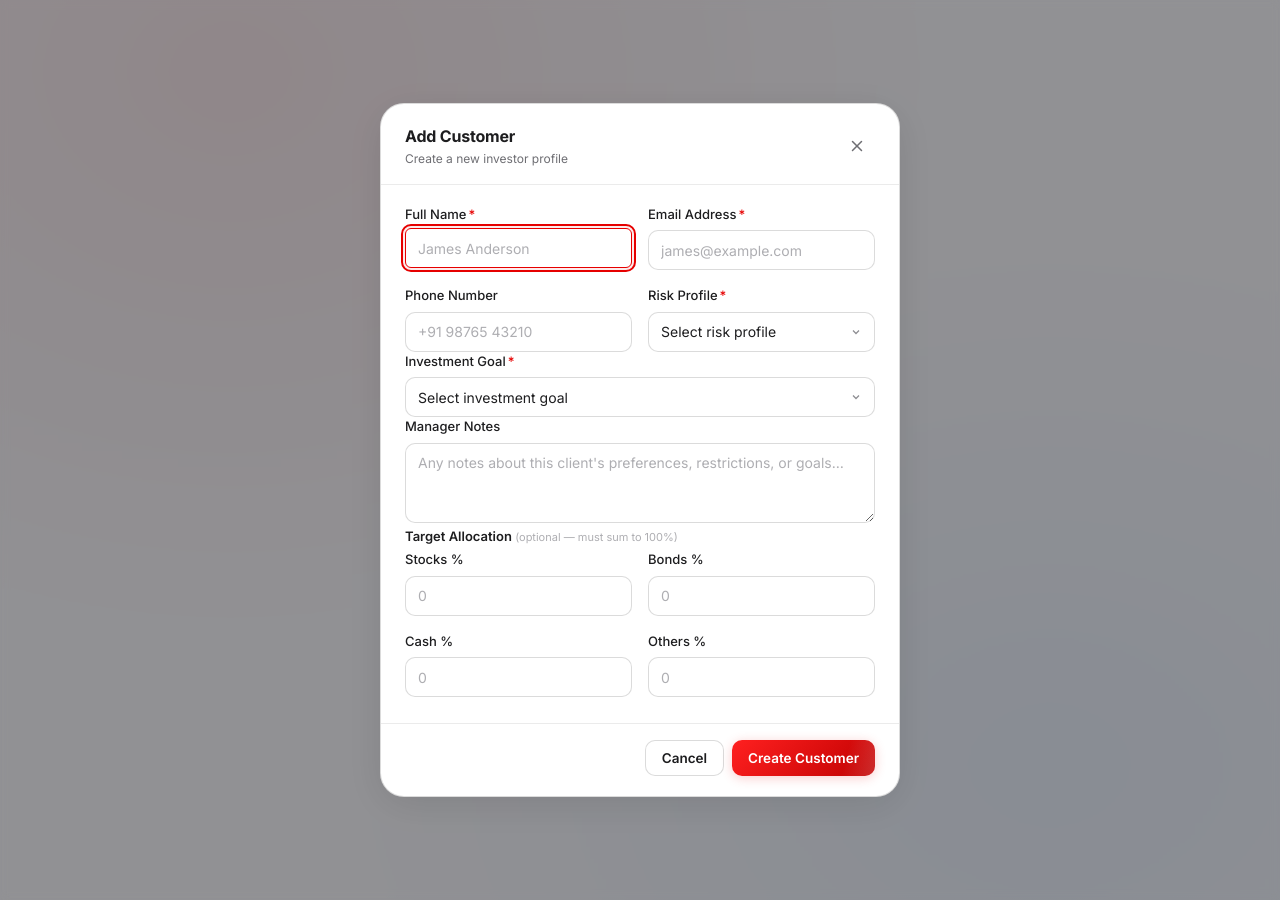
CustomerForm — validation › shows invalid email error for bad email format
In the field with placeholder "james@example.com": (762, 250) x1=648 y1=230 x2=875 y2=270, type "notanemail"
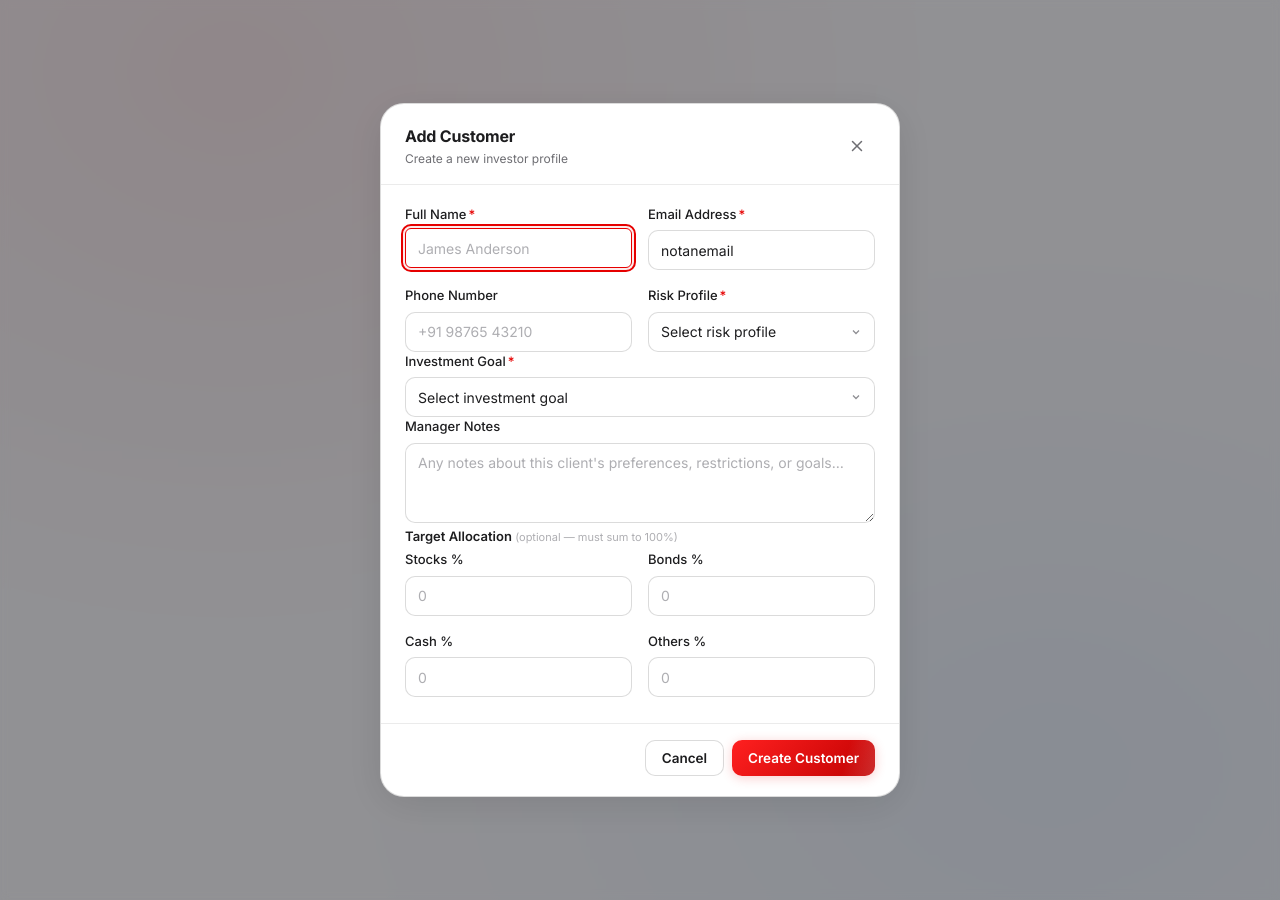
Leave the field with placeholder "james@example.com", box x1=648 y1=230 x2=875 y2=270
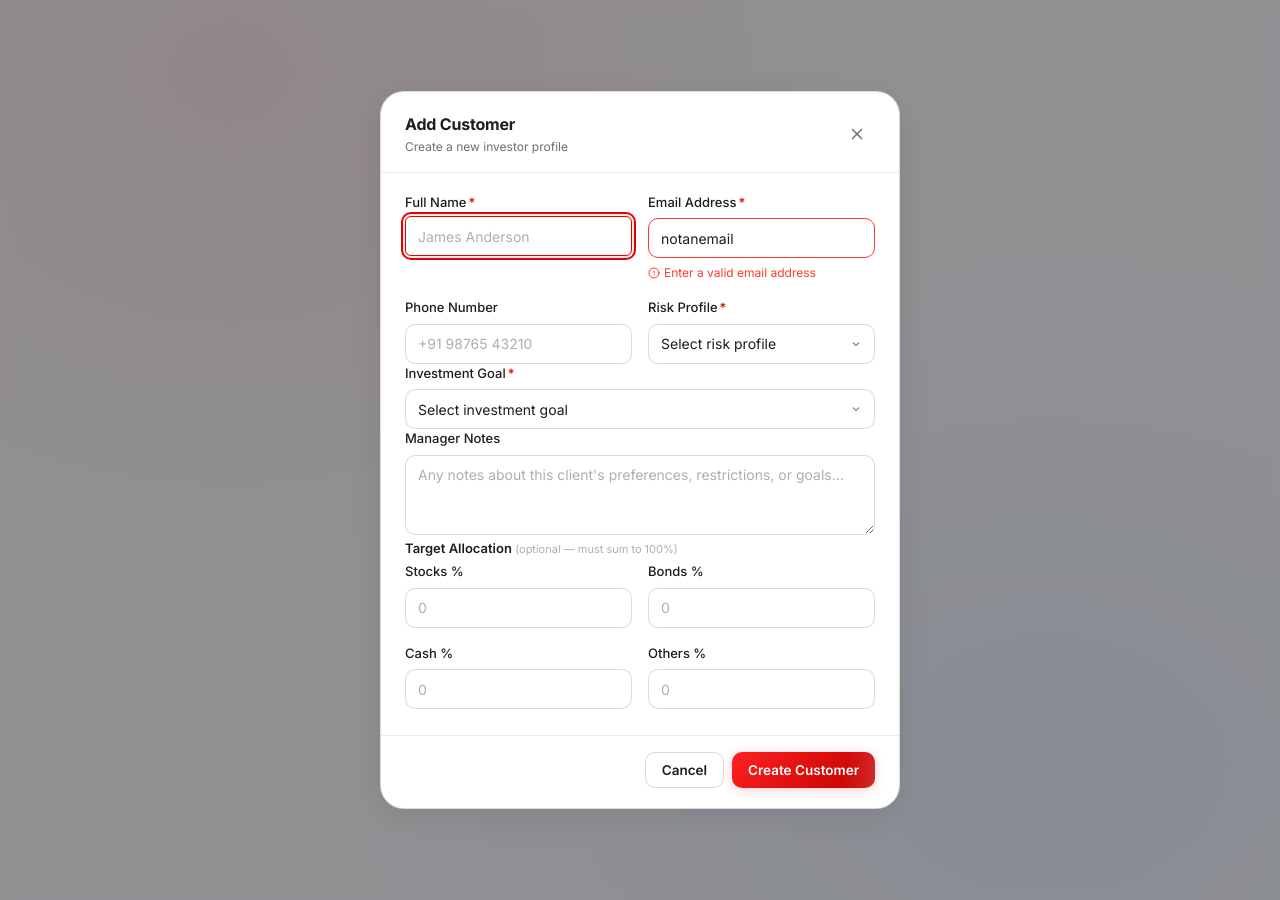
Now the text "Enter a valid email address" is shown, box x1=648 y1=265 x2=816 y2=280
